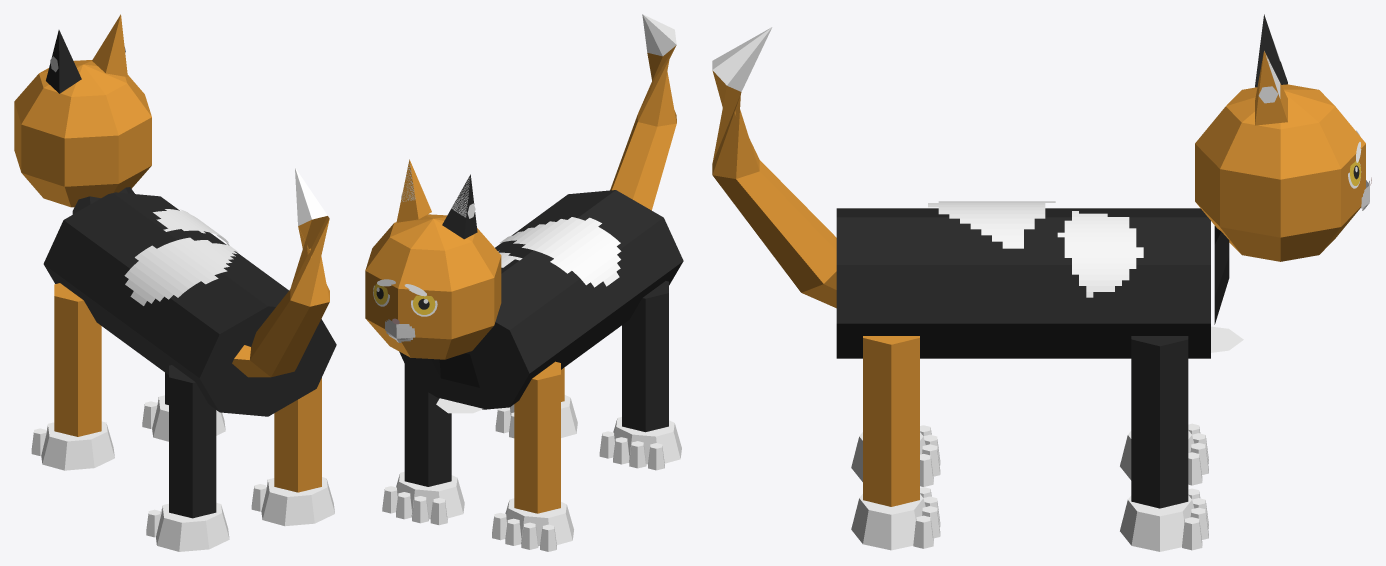
Rendered from cat-calico.fbx.
3 renders of one model, left to right at view 1: azimuth 30°, elevation 25°; view 2: azimuth 150°, elevation 25°; view 3: azimuth 270°, elevation 25°, orthographic. The views are drawn at different scales.
Visible parts, largest first — view 1: Cat_BlackMat_body, Cat_BlackMat_head, Cat_BlackMat_frontL_leg, Cat_BlackMat_backL_leg, Cat_BlackMat_tail, Cat_WhiteMat_spot_1, Cat_BlackMat_backR_leg, Cat_WhiteMat_frontL_paw, Cat_WhiteMat_backL_paw, Cat_WhiteMat_backR_paw, Cat_BlackMat_ear_R, Cat_BlackMat_ear_L (+4 smaller); view 2: Cat_BlackMat_body, Cat_BlackMat_head, Cat_BlackMat_frontL_leg, Cat_BlackMat_backL_leg, Cat_BlackMat_tail, Cat_WhiteMat_spot_1, Cat_BlackMat_frontR_leg, Cat_WhiteMat_frontR_paw, Cat_WhiteMat_frontL_paw, Cat_WhiteMat_backL_paw, Cat_BlackMat_neck, Cat_BlackMat_ear_R (+5 smaller); view 3: Cat_BlackMat_body, Cat_BlackMat_head, Cat_BlackMat_tail, Cat_BlackMat_frontR_leg, Cat_BlackMat_backR_leg, Cat_WhiteMat_spot_2, Cat_WhiteMat_frontR_paw, Cat_WhiteMat_backR_paw, Cat_WhiteMat_spot_1, Cat_WhiteMat_tailTip, Cat_WhiteMat_frontL_paw, Cat_WhiteMat_backL_paw (+3 smaller).
Boxes of the visible parts, left/top/right/bottom form: Cat_BlackMat_body: left=43, top=192, right=336, bottom=416; Cat_BlackMat_head: left=14, top=60, right=151, bottom=207; Cat_BlackMat_frontL_leg: left=54, top=283, right=101, bottom=436; Cat_BlackMat_backL_leg: left=169, top=365, right=216, bottom=518; Cat_BlackMat_tail: left=250, top=216, right=329, bottom=377; Cat_WhiteMat_spot_1: left=124, top=237, right=238, bottom=305; Cat_BlackMat_backR_leg: left=274, top=378, right=321, bottom=492; Cat_WhiteMat_frontL_paw: left=31, top=421, right=114, bottom=470; Cat_WhiteMat_backL_paw: left=146, top=502, right=229, bottom=551; Cat_WhiteMat_backR_paw: left=251, top=477, right=334, bottom=526; Cat_BlackMat_ear_R: left=92, top=14, right=127, bottom=76; Cat_BlackMat_ear_L: left=46, top=30, right=81, bottom=93; Cat_BlackMat_body: left=399, top=190, right=683, bottom=409; Cat_BlackMat_head: left=365, top=214, right=501, bottom=359; Cat_BlackMat_frontL_leg: left=514, top=361, right=560, bottom=513; Cat_BlackMat_backL_leg: left=622, top=281, right=668, bottom=432; Cat_BlackMat_tail: left=610, top=45, right=676, bottom=210; Cat_WhiteMat_spot_1: left=500, top=217, right=621, bottom=287; Cat_BlackMat_frontR_leg: left=404, top=364, right=451, bottom=486; Cat_WhiteMat_frontR_paw: left=382, top=471, right=464, bottom=525; Cat_WhiteMat_frontL_paw: left=492, top=498, right=573, bottom=551; Cat_WhiteMat_backL_paw: left=599, top=417, right=681, bottom=470; Cat_BlackMat_neck: left=431, top=334, right=499, bottom=387; Cat_BlackMat_ear_R: left=396, top=159, right=431, bottom=222; Cat_BlackMat_body: left=836, top=208, right=1210, bottom=358; Cat_BlackMat_head: left=1195, top=84, right=1365, bottom=261; Cat_BlackMat_tail: left=712, top=70, right=836, bottom=292; Cat_BlackMat_frontR_leg: left=1131, top=336, right=1188, bottom=508; Cat_BlackMat_backR_leg: left=863, top=336, right=919, bottom=506; Cat_WhiteMat_spot_2: left=1057, top=211, right=1143, bottom=297; Cat_WhiteMat_frontR_paw: left=1120, top=488, right=1208, bottom=551; Cat_WhiteMat_backR_paw: left=851, top=487, right=940, bottom=550; Cat_WhiteMat_spot_1: left=928, top=201, right=1055, bottom=248; Cat_WhiteMat_tailTip: left=712, top=27, right=772, bottom=91; Cat_WhiteMat_frontL_paw: left=1120, top=423, right=1208, bottom=485; Cat_WhiteMat_backL_paw: left=851, top=425, right=940, bottom=486.
Size of the model in its own units: 138 by 285 by 361.
